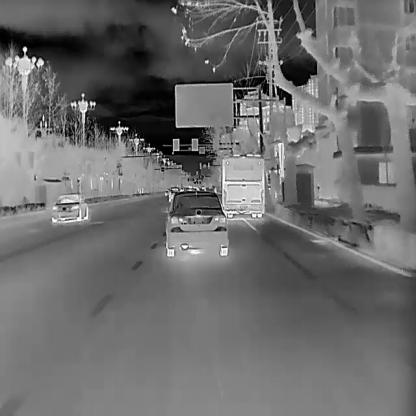bus: (220, 152, 264, 217)
car: (162, 188, 229, 256), (52, 192, 89, 222)
